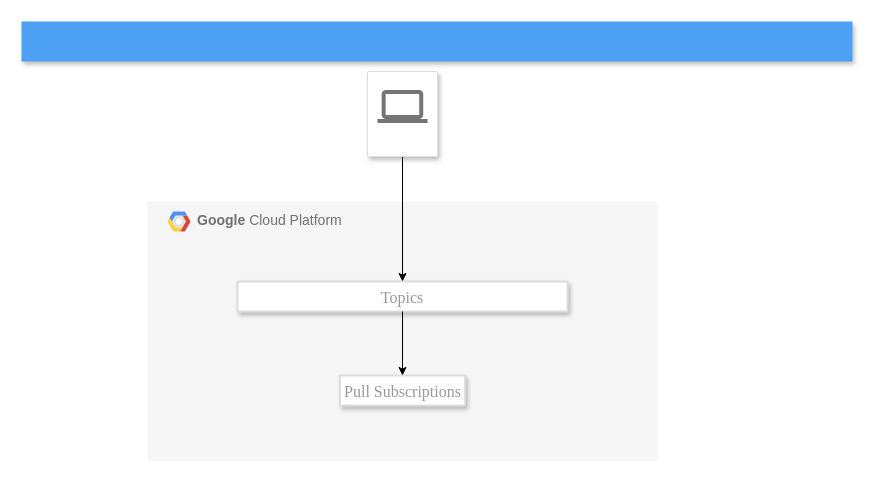
Image size: 875x478. Some labels were removed from this diagram. Here are the shapes that lost their labels. From the top down, the centre of each, then its label:
At pixel 437 42: "Arquitetura: Desafio palavras".
At pixel 403 115: "Desktop".
